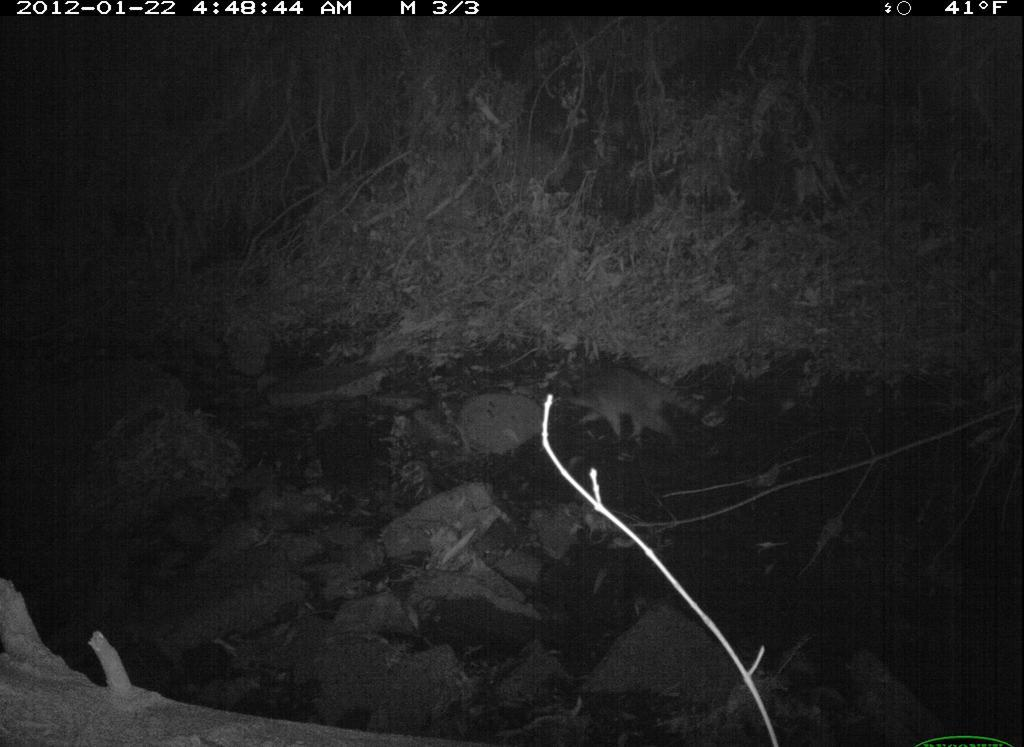raccoon: (491, 324, 722, 463)
